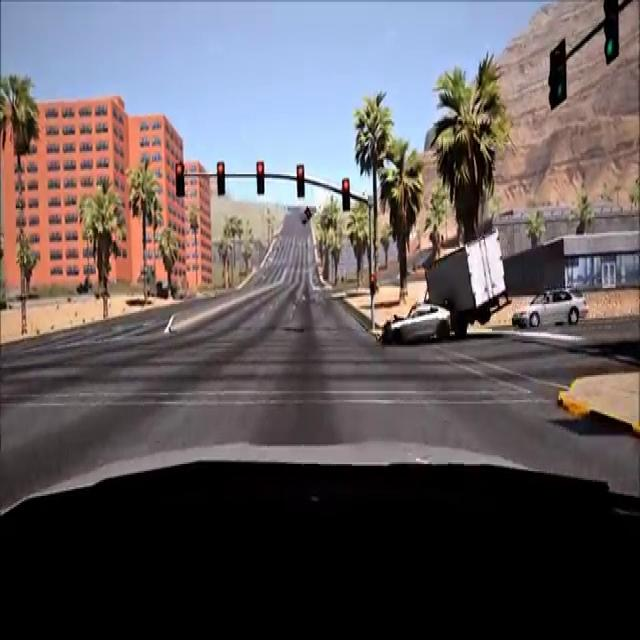accident: (379, 222, 511, 358)
